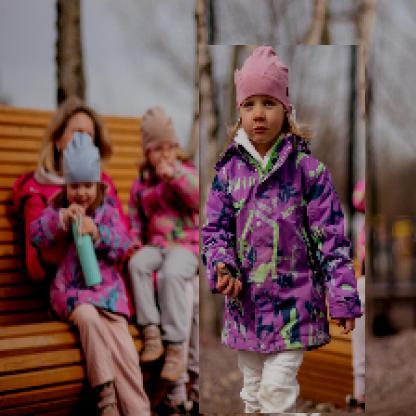child: (200, 46, 367, 415), (25, 133, 152, 416), (126, 107, 215, 380)
